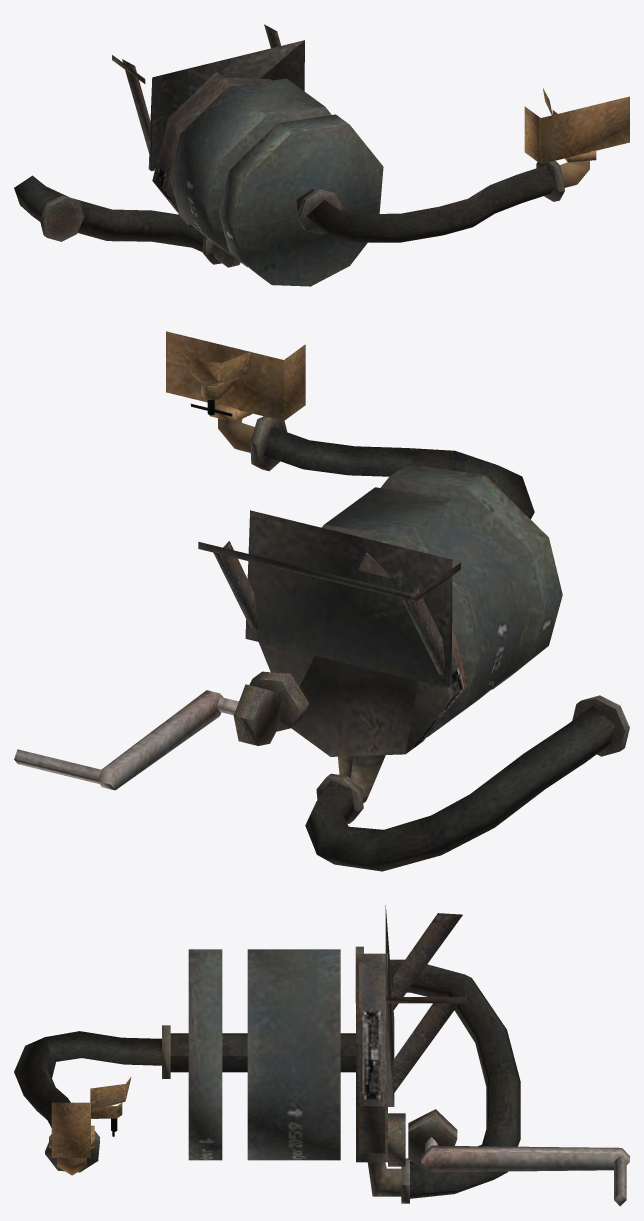
Rendered from prop_bunker_air_filter.glb.
3 renders of one model, top to bottom at view 1: azimuth 30°, elevation 25°; view 2: azimuth 150°, elevation 25°; view 3: azimuth 270°, elevation 25°, orthographic. The views are drawn at different scales.
Bounding box in the file's own units: 35.85 × 15.65 × 34.54.
Materials: 1 (1 with a texture image).
